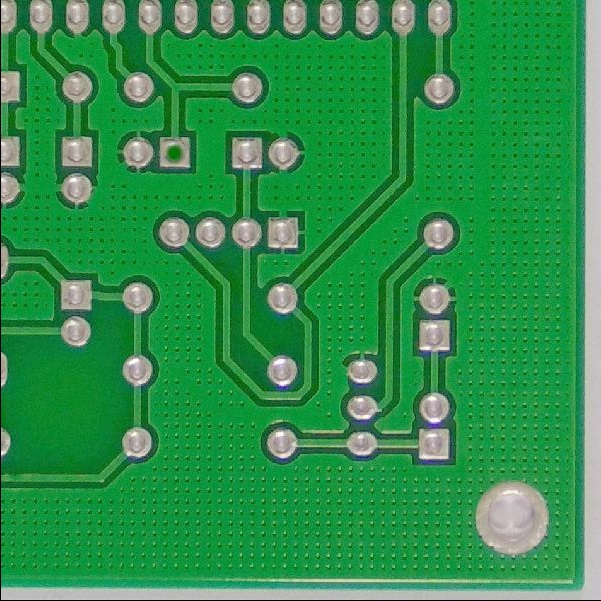missing_hole: (151, 136, 195, 176)
